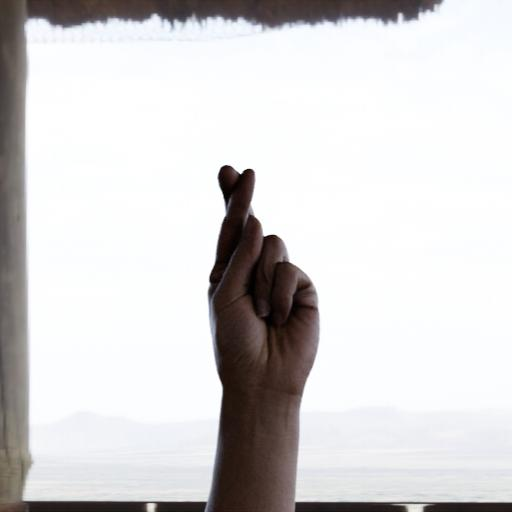R: (183, 156, 333, 429)
